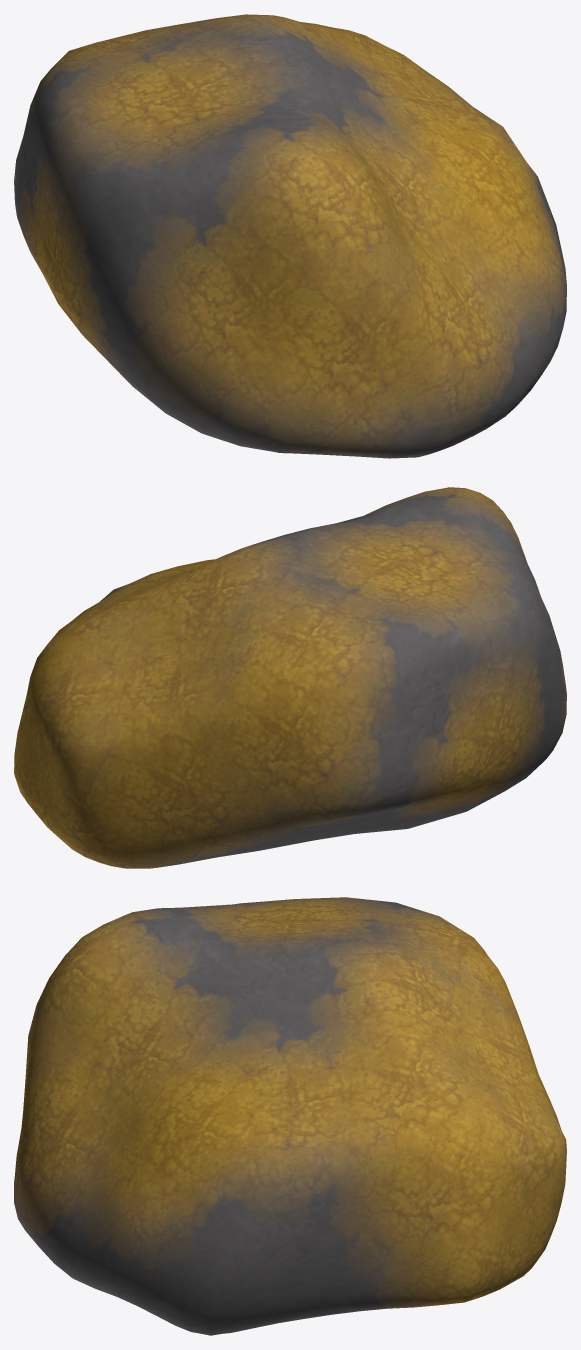
File: rockBig.fbx
The picture shows the model from 3 angles, top to bottom: view 1: azimuth 30°, elevation 25°; view 2: azimuth 150°, elevation 25°; view 3: azimuth 270°, elevation 25°; orthographic projection. The views are drawn at different scales.
Visible parts, largest first — view 1: rock01; view 2: rock01; view 3: rock01.
Boxes of the visible parts, x1,y1,x2,y2 form: rock01: [14, 14, 566, 458]; rock01: [14, 487, 566, 868]; rock01: [14, 897, 566, 1335].
Size of the model in its own units: 96.68 by 67.2 by 108.
